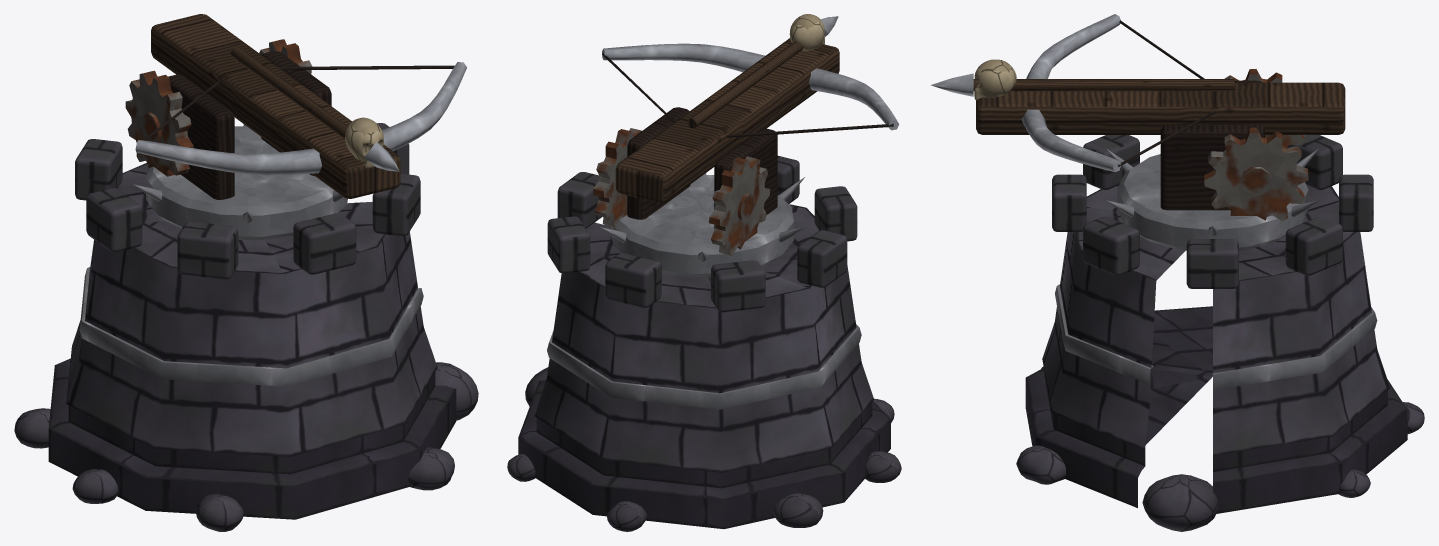
The model's file is ballista.glb.
3 views of the same model, side by side, from view 1: azimuth 30°, elevation 25°; view 2: azimuth 150°, elevation 25°; view 3: azimuth 270°, elevation 25° (orthographic). The views are drawn at different scales.
Parts seen in each view (by area): view 1: Base, Turret; view 2: Base, Turret; view 3: Base, Turret.
Part boxes in pixels (x1=…): Base: x1=14, y1=123, x2=478, y2=531; Turret: x1=125, y1=14, x2=466, y2=240; Base: x1=507, y1=156, x2=901, y2=531; Turret: x1=593, y1=14, x2=899, y2=277; Base: x1=1016, y1=135, x2=1424, y2=531; Turret: x1=930, y1=14, x2=1345, y2=250.
Size of the model in its own units: 0.9967 by 0.9858 by 1.14.
Materials: 10 (10 with a texture image).
